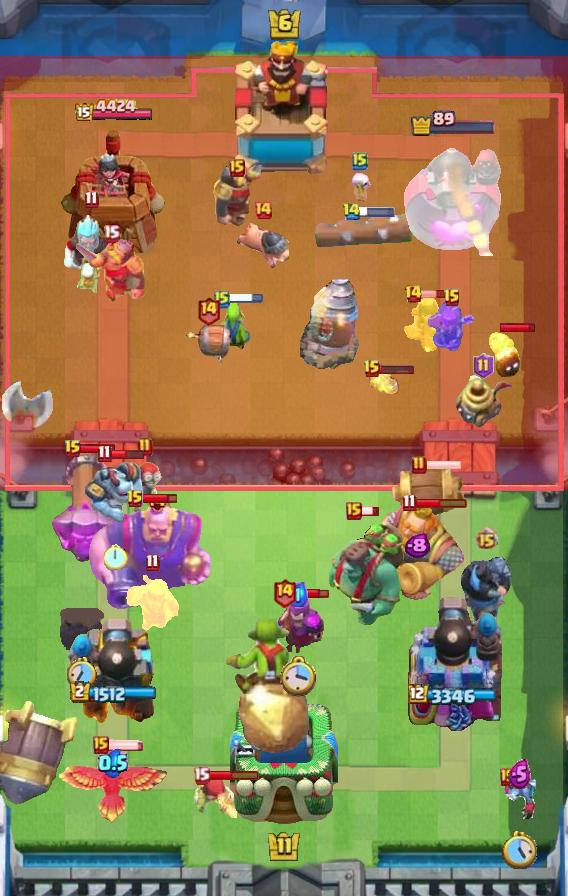archer-evolution: (427, 299, 477, 355)
axe: (0, 362, 54, 430)
bar: (207, 769, 260, 781), (415, 497, 468, 509), (228, 292, 265, 305), (107, 739, 145, 751), (143, 492, 178, 505), (425, 459, 462, 471), (379, 363, 415, 375), (294, 587, 329, 599), (110, 448, 145, 460), (80, 443, 117, 454), (500, 322, 537, 333), (358, 207, 396, 217), (421, 289, 456, 299), (360, 505, 380, 517)
bar-level: (272, 577, 297, 608), (196, 295, 221, 326), (473, 353, 494, 379), (475, 527, 498, 550), (253, 200, 273, 220), (404, 284, 423, 304), (342, 202, 361, 221), (126, 489, 144, 509), (64, 439, 82, 459), (363, 359, 381, 379), (443, 288, 461, 308), (193, 766, 210, 785), (103, 224, 120, 243), (411, 455, 427, 475), (137, 437, 153, 457), (214, 289, 230, 309), (352, 151, 368, 171), (500, 768, 516, 786), (93, 736, 109, 754), (346, 502, 362, 520), (229, 159, 245, 177), (145, 553, 160, 572), (402, 493, 417, 512), (97, 444, 112, 463), (84, 190, 99, 209)
barbarian-barrel: (388, 463, 468, 523)
barbarian-evolution: (125, 575, 180, 632)
bomb: (60, 608, 104, 650)
bomber: (126, 458, 164, 514), (191, 776, 237, 818)
cannoneer-tower: (404, 593, 502, 731), (403, 138, 504, 256), (67, 611, 161, 731)
clock: (280, 656, 317, 698), (502, 831, 537, 869), (67, 657, 97, 690), (104, 543, 128, 570)
elixir: (98, 748, 128, 778), (508, 759, 531, 789), (404, 533, 430, 559), (289, 582, 308, 607)
fire-spirit: (487, 330, 523, 380)
goblin: (213, 300, 253, 352)
ice-wizard: (60, 212, 122, 284)
king-tower: (228, 41, 340, 181), (230, 692, 338, 826)
knight: (75, 239, 148, 302), (213, 165, 262, 226)
lava-pup: (366, 369, 400, 401)
mega-minion: (84, 458, 148, 524)
minion: (497, 773, 541, 819)
mother-witch: (271, 593, 325, 653)
princess: (399, 294, 451, 352)
queen-tower: (59, 128, 169, 256)
royal-hog: (237, 221, 289, 271)
skeleton: (73, 257, 107, 293), (346, 170, 374, 202)
the-log: (314, 211, 414, 249)
tower-bar: (410, 110, 497, 137), (408, 684, 499, 707), (74, 98, 154, 124), (70, 681, 158, 704)
wall-breaker: (183, 324, 233, 366)
zappy: (452, 374, 514, 430)
